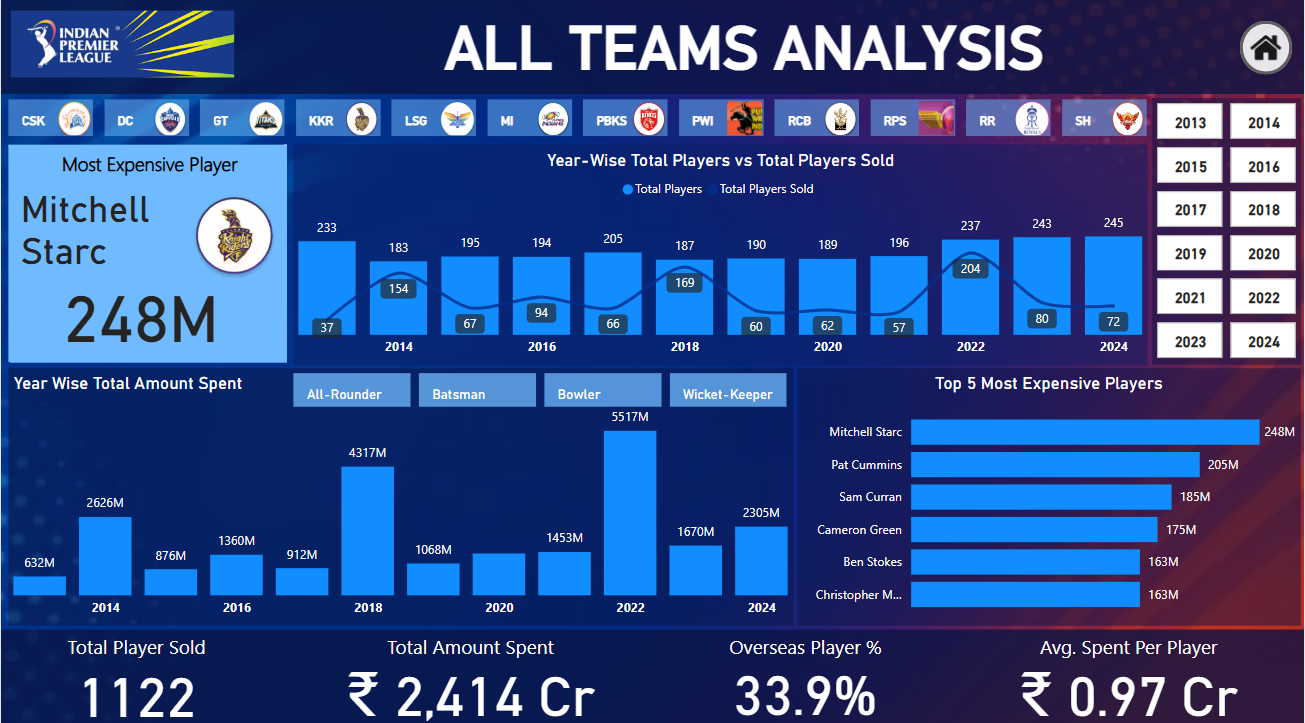

The page's visual inventory and layout, read from the dashboard file:
{"tool":"powerbi","page":{"name":"Top_Buys_Analysis","canvas":[1280,720],"ordinal":2},"visuals":[{"type":"shape","box":[0,0,1279.7,83.7],"z":0},{"type":"group","id":"g1","title":"Group 1","box":[4.3,85.1,290,246.6],"z":0,"group":"g4"},{"type":"cardVisual","fields":{"Data":["Min(sold_players.player)"]},"box":[4.3,85.1,209.2,246.6],"z":0,"group":"g1"},{"type":"image","box":[4.3,2.9,229.4,75],"z":1000},{"type":"shape","box":[10.1,78.7,285.7,22],"z":1000,"group":"g4"},{"type":"shape","box":[206.3,89.9,88,219.2],"z":1000,"group":"g1"},{"type":"textbox","box":[308.8,1.4,914.7,80.8],"z":2000},{"type":"textbox","box":[54.8,93.8,193.3,44],"z":2000,"group":"g1"},{"type":"shape","box":[10.1,295.7,285.7,26.4],"z":2000,"group":"g4"},{"type":"shape","box":[281.3,88.2,27.4,220.2],"z":3000,"group":"g3"},{"type":"tableEx","fields":{"Values":["sold_players.Most Expensive Player Logo URL"]},"box":[181.5,111.9,112.5,139.8],"z":3000,"group":"g1"},{"type":"shape","box":[0,639.1,1279.7,81],"z":3000},{"type":"card","fields":{"Values":["Max(sold_players.price_paid)"]},"box":[57.7,220.7,176,88],"z":4000,"group":"g1"},{"type":"cardVisual","fields":{"Data":["sold_players (3).Avg Per Player"]},"box":[977.9,630.7,258.9,83.4],"z":4000},{"type":"shape","box":[181.8,126.1,99.6,14.7],"z":5000,"group":"g1"},{"type":"cardVisual","fields":{"Data":["sold_players (3).Total_Spent(₹ Cr)1"]},"box":[321.7,633.4,279.9,83.7],"z":5000},{"type":"cardVisual","fields":{"Data":["sold_players (3).YearWithHighestSpend"]},"box":[673.8,633.4,232.3,83.7],"z":6000},{"type":"cardVisual","fields":{"Data":["CountNonNull(sold_players.player)"]},"box":[17.3,633.4,232.3,85],"z":7000},{"type":"donutChart","title":"Player Type Distribution of Top Buys","fields":{"Y":["CountNonNull(sold_players (3).type)"],"Category":["player_type.type"]},"box":[8.7,318.9,359.2,316],"z":8000},{"type":"columnChart","title":"Total Top Buys By Teams","fields":{"Category":["teams.team"],"Y":["CountNonNull(sold_players (3).team)"]},"box":[562.7,89.5,707,223.6],"z":9000},{"type":"group","id":"g2","title":"Group 6","box":[4.3,78.7,554.6,253],"z":10000},{"type":"barChart","title":"Top Buys Each Year","fields":{"Y":["Sum(sold_players (3).price_paid)"],"Category":["years.year"]},"box":[375.1,318.9,894.5,316],"z":11000},{"type":"actionButton","box":[1217.2,17.2,51.5,52.8],"z":12000},{"type":"group","id":"g3","title":"Group 2","box":[4.3,78.7,304.4,253],"z":13000,"group":"g2"},{"type":"group","id":"g4","title":"Group 3","box":[4.3,78.7,291.4,253],"z":13006,"group":"g3"},{"type":"card","fields":{"Values":["sold_players (3).Top Spending Team"]},"box":[303.1,89,248.2,150],"z":14000,"group":"g5"},{"type":"card","fields":{"Values":["sold_players (3).Most Picked Player Type"]},"box":[303.7,241.9,247,69.3],"z":14000,"group":"g6"},{"type":"group","id":"g5","title":"Group 4","box":[303.1,89,248.2,150],"z":15000,"group":"g2"},{"type":"textbox","box":[318.3,92,209.2,46.2],"z":17000,"group":"g5"},{"type":"shape","box":[302,211.3,256.8,27.4],"z":17001,"group":"g2"},{"type":"textbox","box":[303.7,217.4,247,45.4],"z":17501,"group":"g6"},{"type":"group","id":"g6","title":"Group 5","box":[303.7,217.4,247,93.8],"z":17502,"group":"g2"}]}

Visuals, with their boxes in screenshot pixels (x1, y1, x2, y2), scaled from the page's 1280x720 canvas onto the 1305x723 screenshot:
shape: bbox=(0, 0, 1304, 84)
"Group 1" group: bbox=(4, 85, 300, 333)
cardVisual - Min(sold_players.player): bbox=(4, 85, 218, 333)
image: bbox=(4, 3, 238, 78)
shape: bbox=(10, 79, 302, 101)
shape: bbox=(210, 90, 300, 310)
textbox: bbox=(315, 1, 1247, 83)
textbox: bbox=(56, 94, 253, 138)
shape: bbox=(10, 297, 302, 323)
shape: bbox=(287, 89, 315, 310)
tableEx - sold_players.Most Expensive Player Logo URL: bbox=(185, 112, 300, 253)
shape: bbox=(0, 642, 1304, 722)
card - Max(sold_players.price_paid): bbox=(59, 222, 238, 310)
cardVisual - sold_players (3).Avg Per Player: bbox=(997, 633, 1261, 717)
shape: bbox=(185, 127, 287, 141)
cardVisual - sold_players (3).Total_Spent(₹ Cr)1: bbox=(328, 636, 613, 720)
cardVisual - sold_players (3).YearWithHighestSpend: bbox=(687, 636, 924, 720)
cardVisual - CountNonNull(sold_players.player): bbox=(18, 636, 254, 721)
"Player Type Distribution of Top Buys" donutChart: bbox=(9, 320, 375, 638)
"Total Top Buys By Teams" columnChart: bbox=(574, 90, 1294, 314)
"Group 6" group: bbox=(4, 79, 570, 333)
"Top Buys Each Year" barChart: bbox=(382, 320, 1294, 638)
actionButton: bbox=(1241, 17, 1293, 70)
"Group 2" group: bbox=(4, 79, 315, 333)
"Group 3" group: bbox=(4, 79, 301, 333)
card - sold_players (3).Top Spending Team: bbox=(309, 89, 562, 240)
card - sold_players (3).Most Picked Player Type: bbox=(310, 243, 561, 312)
"Group 4" group: bbox=(309, 89, 562, 240)
textbox: bbox=(325, 92, 538, 139)
shape: bbox=(308, 212, 570, 240)
textbox: bbox=(310, 218, 561, 264)
"Group 5" group: bbox=(310, 218, 561, 312)
